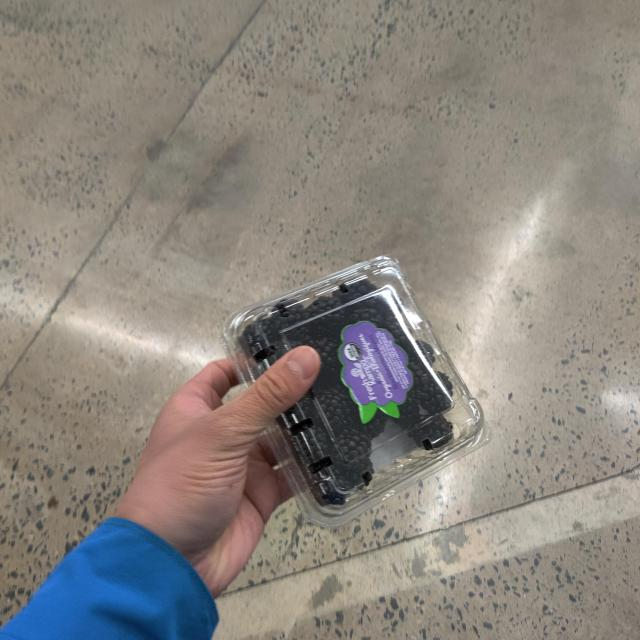Blackberries: (237, 269, 479, 518)
